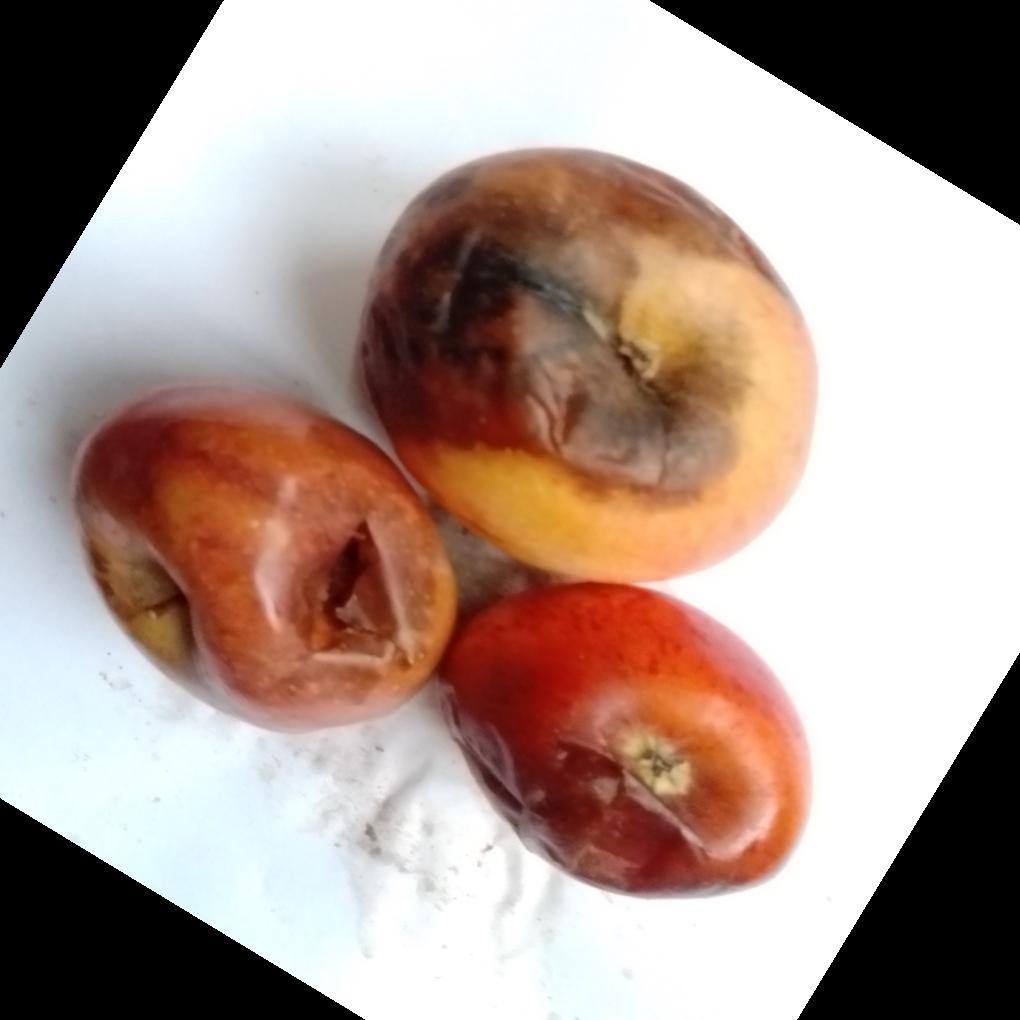FreshOrange: (72, 150, 818, 898)
